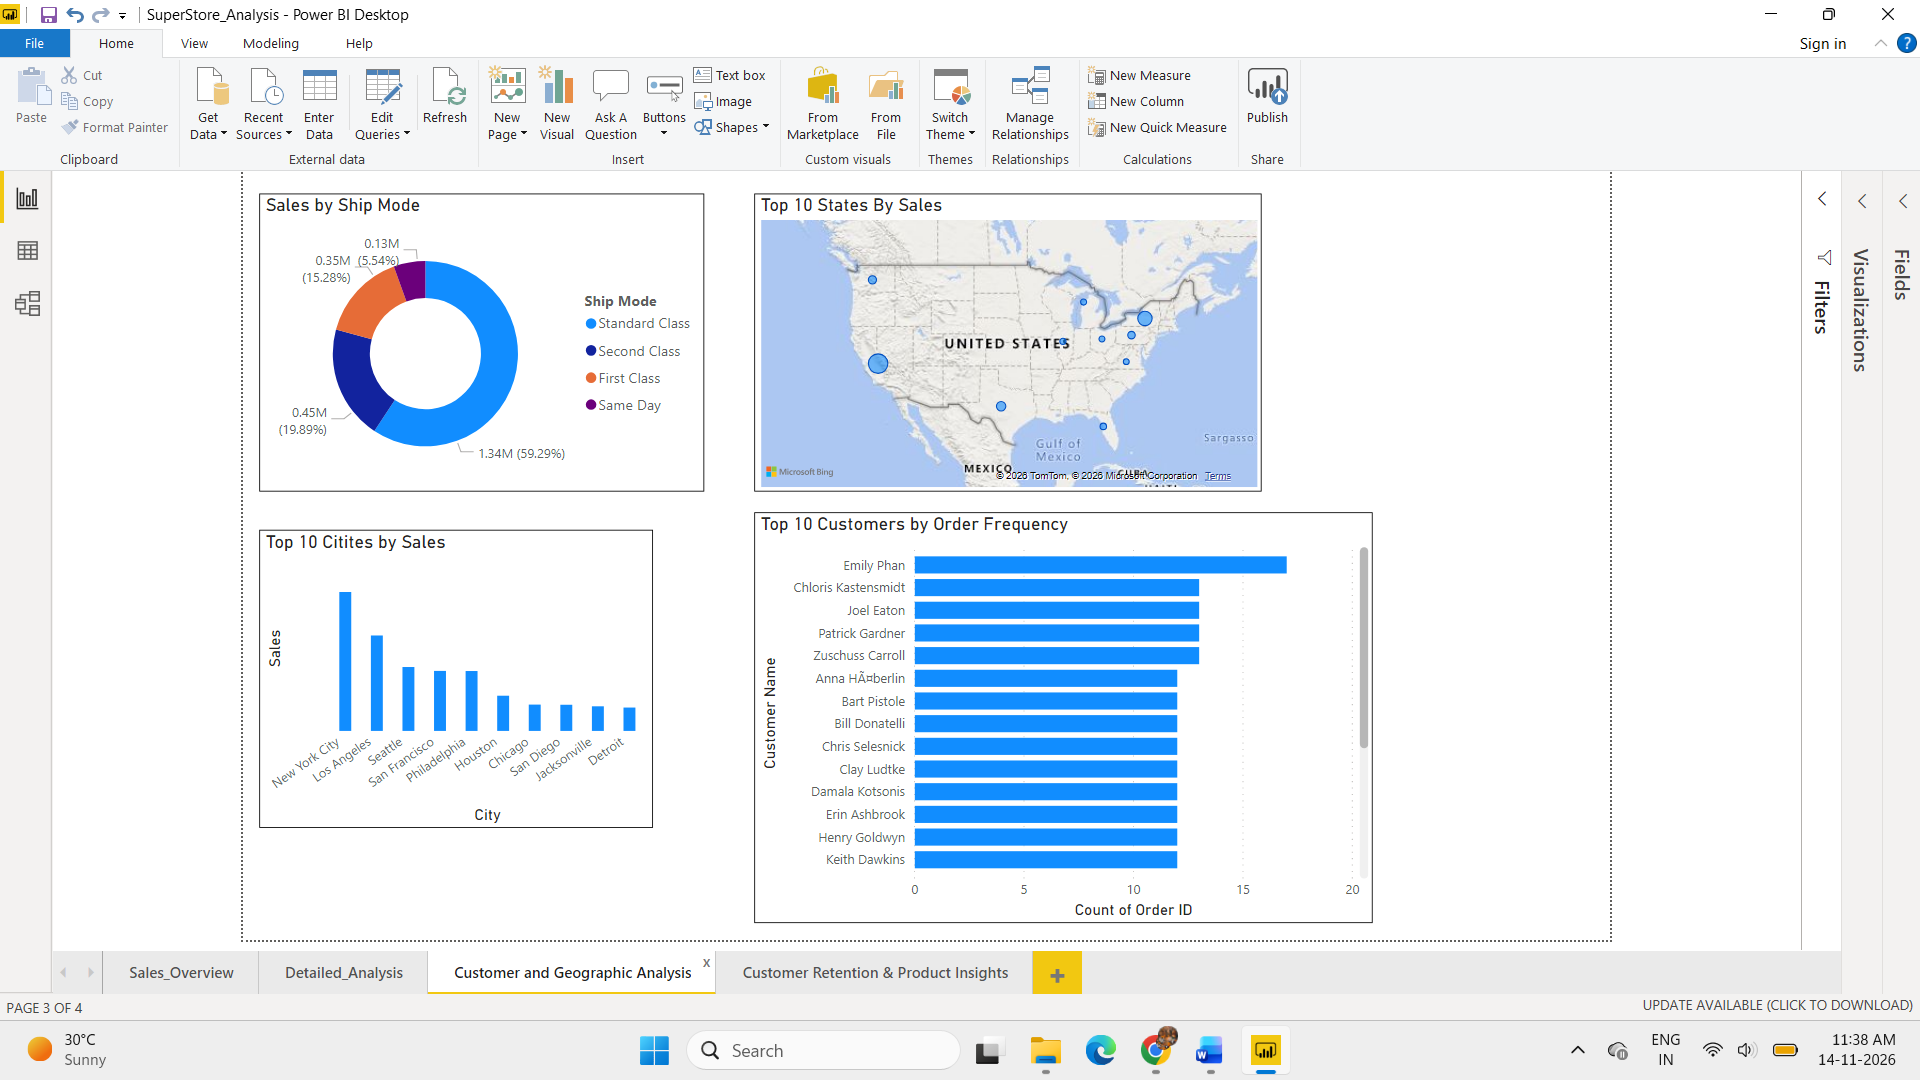

The page's visual inventory and layout, read from the dashboard file:
{"tool":"powerbi","page":{"name":"Customer and Geographic Analysis","canvas":[1280,720],"ordinal":2},"visuals":[{"type":"donutChart","fields":{"Category":["superstore.Ship Mode"],"Y":["Sum(superstore.Sales)"]},"box":[15.1,20.6,416.6,279.6],"z":0},{"type":"map","title":"Top 10 States By Sales","fields":{"Category":["superstore.State"],"Size":["Sum(superstore.Sales)"]},"box":[478.3,20.6,475.5,279.6],"z":1000},{"type":"ribbonChart","title":"Top 10 Citites by Sales","fields":{"Category":["superstore.City"],"Y":["Sum(superstore.Sales)"]},"box":[15.1,335.8,368.7,279.6],"z":2000},{"type":"clusteredBarChart","title":"Top 10 Customers by Order Frequency","fields":{"Category":["superstore.Customer Name"],"Y":["Count(superstore.Order ID)"]},"box":[479,319.3,578.9,384.6],"z":3000}]}

Visuals, with their boxes on the page's 1280x720 design canvas (x1, y1, x2, y2). These are canvas units, not pixel positions in the 1920x1080 screenshot, which may show the page scaled, cropped or inside an application window:
donutChart - superstore.Ship Mode x Sum(superstore.Sales): {"left": 15, "top": 21, "right": 432, "bottom": 300}
"Top 10 States By Sales" map: {"left": 478, "top": 21, "right": 954, "bottom": 300}
"Top 10 Citites by Sales" ribbonChart: {"left": 15, "top": 336, "right": 384, "bottom": 615}
"Top 10 Customers by Order Frequency" clusteredBarChart: {"left": 479, "top": 319, "right": 1058, "bottom": 704}
